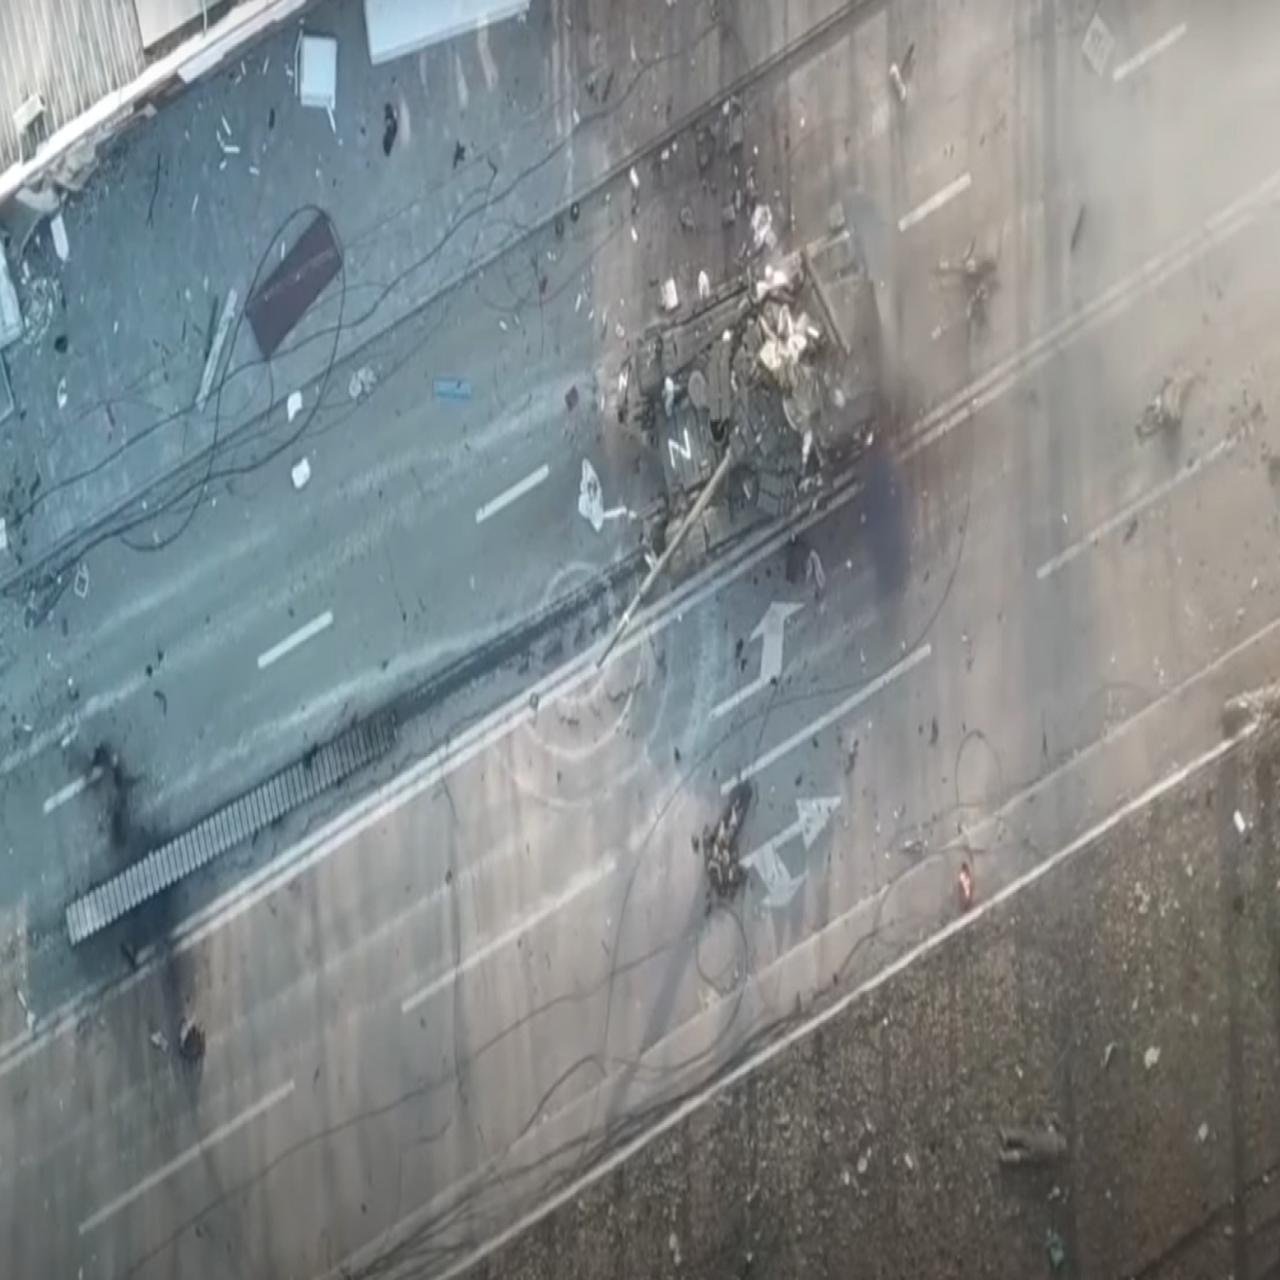MIL_Veh: (586, 219, 888, 680)
